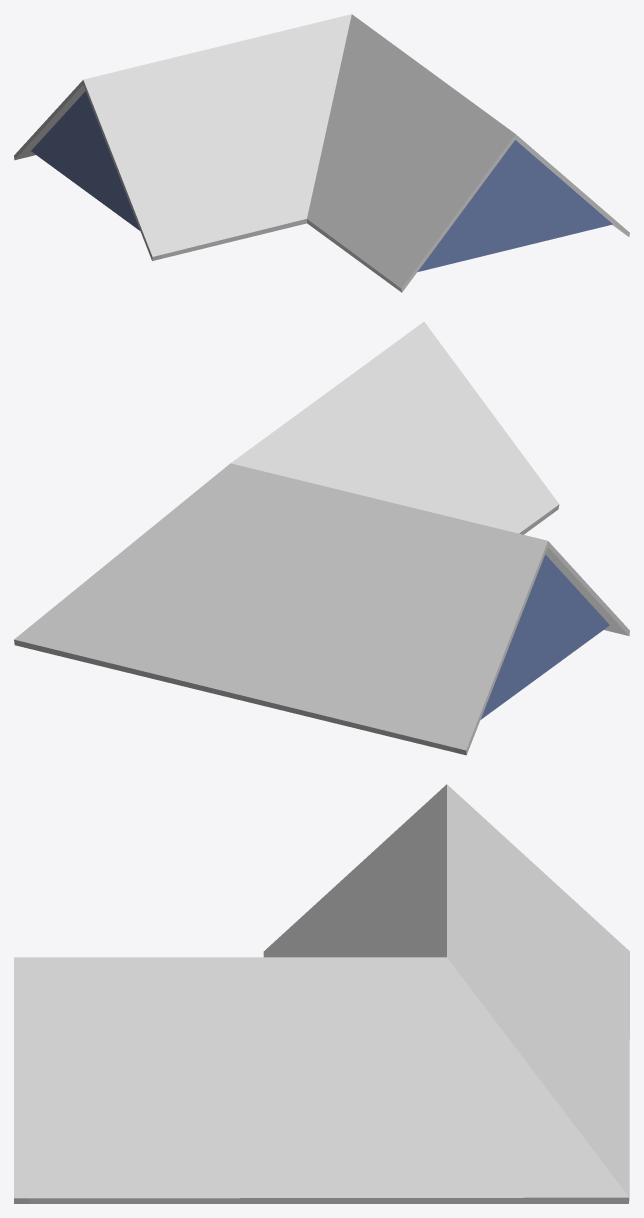
The model's file is roof-part.glb.
The picture shows the model from 3 angles, top to bottom: view 1: azimuth 30°, elevation 25°; view 2: azimuth 150°, elevation 25°; view 3: azimuth 270°, elevation 25°; orthographic projection. The views are drawn at different scales.
Visible parts, largest first — view 1: roof, roof-wall-2, roof-wall-1; view 2: roof, roof-wall-1; view 3: roof.
Part boxes in pixels (box(x1,y1,x2,y2)): roof: box(14, 14, 629, 292); roof-wall-2: box(418, 140, 612, 271); roof-wall-1: box(31, 91, 139, 230); roof: box(14, 322, 629, 755); roof-wall-1: box(480, 554, 609, 719); roof: box(14, 784, 629, 1203).
Bounding box in the file's own units: 7.41 × 2.43 × 7.82.
